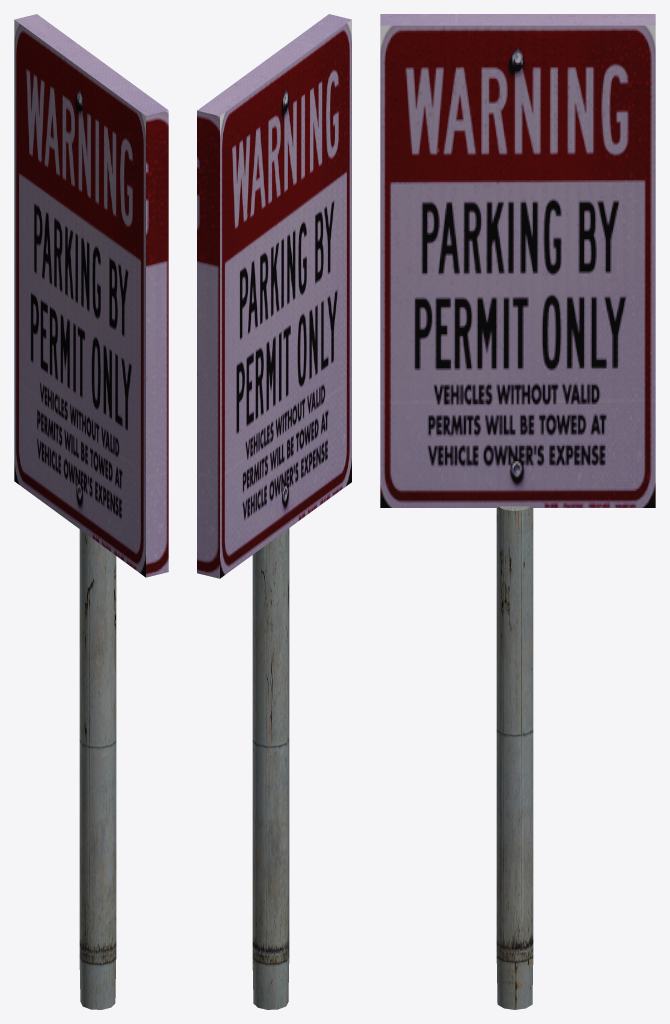
Rendered from sign12.FBX.
3 renders of one model, left to right at view 1: azimuth 30°, elevation 25°; view 2: azimuth 150°, elevation 25°; view 3: azimuth 270°, elevation 25°, orthographic. The views are drawn at different scales.
Visible parts, largest first — view 1: Cylinder002; view 2: Cylinder002; view 3: Cylinder002.
Boxes of the visible parts, <box> form: Cylinder002: <box>14,14,168,1009</box>; Cylinder002: <box>197,14,351,1009</box>; Cylinder002: <box>380,14,655,1009</box>.
Size of the model in its own units: 1.42 by 39.28 by 10.
